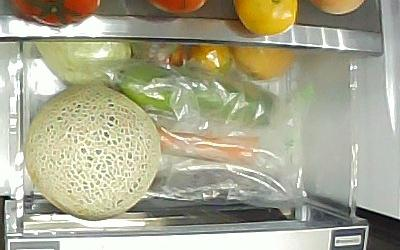cabbage: (32, 42, 128, 85)
carrot_vinyl: (160, 129, 260, 164)
eggplant_vinyl: (146, 170, 288, 202)
melon: (24, 86, 161, 221)
pear_vinyl: (232, 47, 297, 83)
tangerine_vinyl: (185, 45, 232, 76)
zucchini_vinyl: (119, 65, 279, 125)
